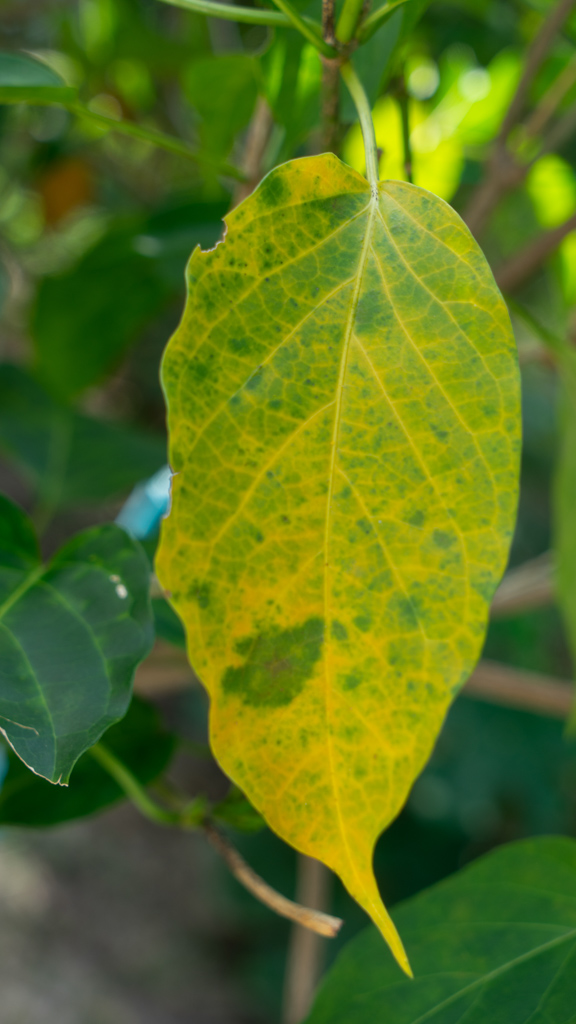Pepper yellow leaf: (142, 153, 529, 988)
